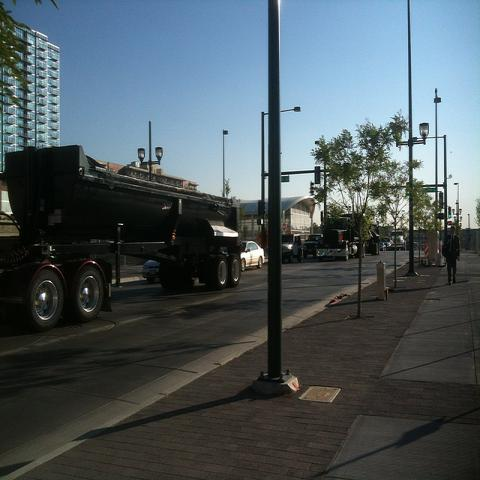car: (241, 240, 266, 271), (282, 234, 303, 262), (302, 234, 323, 258), (142, 260, 160, 284), (380, 237, 395, 250)
truck: (0, 143, 242, 333), (316, 224, 358, 263), (387, 229, 405, 251)
